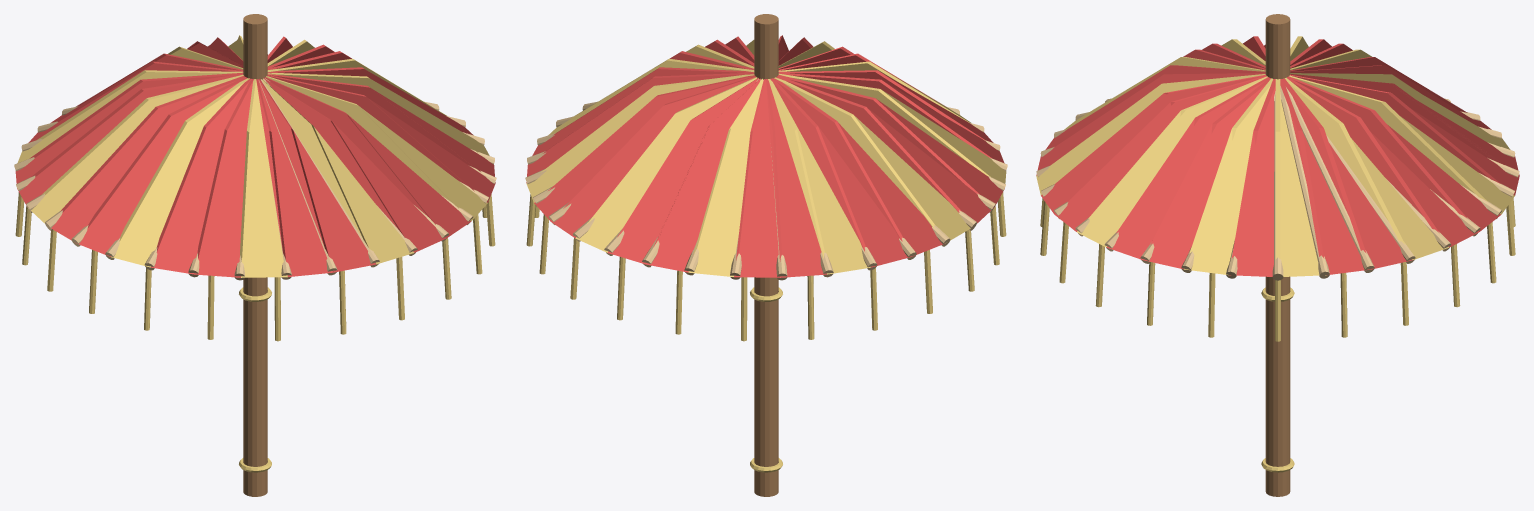
The model's file is buyo_folk_kasa.glb.
3 renders of one model, left to right at view 1: azimuth 30°, elevation 25°; view 2: azimuth 150°, elevation 25°; view 3: azimuth 270°, elevation 25°, orthographic.
Parts seen in each view (by area): view 1: Decorated dance umbrella shaft, Dance umbrella thick washi canopy.020, Dance umbrella thick washi canopy.019, Dance umbrella thick washi canopy.021, Dance umbrella thick washi canopy.018, Dance umbrella thick washi canopy.024, Dance umbrella thick washi canopy.022, Dance umbrella thick washi canopy.017, Dance umbrella thick washi canopy.025, Dance umbrella thick washi canopy.023, Dance umbrella thick washi canopy.026, Dance umbrella thick washi canopy.016 (+12 smaller); view 2: Decorated dance umbrella shaft, Dance umbrella thick washi canopy.009, Dance umbrella thick washi canopy.010, Dance umbrella thick washi canopy.008, Dance umbrella thick washi canopy.013, Dance umbrella thick washi canopy.007, Dance umbrella thick washi canopy.014, Dance umbrella thick washi canopy.011, Dance umbrella thick washi canopy.012, Dance umbrella thick washi canopy.006, Dance umbrella thick washi canopy.015, Dance umbrella thick washi canopy.005 (+12 smaller); view 3: Decorated dance umbrella shaft, Dance umbrella thick washi canopy.030, Dance umbrella thick washi canopy.031, Dance umbrella thick washi canopy.029, Dance umbrella thick washi canopy.028, Dance umbrella thick washi canopy, Dance umbrella thick washi canopy.003, Dance umbrella thick washi canopy.027, Dance umbrella thick washi canopy.004, Dance umbrella thick washi canopy.002, Dance umbrella thick washi canopy.005, Dance umbrella thick washi canopy.026 (+18 smaller).
Part boxes in pixels (<box>): Decorated dance umbrella shaft: <box>243,14,267,496</box>; Dance umbrella thick washi canopy.020: <box>194,79,253,277</box>; Dance umbrella thick washi canopy.019: <box>151,78,251,274</box>; Dance umbrella thick washi canopy.021: <box>240,79,287,277</box>; Dance umbrella thick washi canopy.018: <box>111,78,249,267</box>; Dance umbrella thick washi canopy.024: <box>261,78,414,264</box>; Dance umbrella thick washi canopy.022: <box>256,79,333,276</box>; Dance umbrella thick washi canopy.017: <box>77,77,247,256</box>; Dance umbrella thick washi canopy.025: <box>263,78,446,252</box>; Dance umbrella thick washi canopy.023: <box>259,78,376,272</box>; Dance umbrella thick washi canopy.026: <box>265,77,470,238</box>; Dance umbrella thick washi canopy.016: <box>51,75,245,243</box>; Decorated dance umbrella shaft: <box>754,14,778,496</box>; Dance umbrella thick washi canopy.009: <box>688,78,763,276</box>; Dance umbrella thick washi canopy.010: <box>734,79,780,277</box>; Dance umbrella thick washi canopy.008: <box>645,78,760,272</box>; Dance umbrella thick washi canopy.013: <box>770,78,910,267</box>; Dance umbrella thick washi canopy.007: <box>607,78,758,264</box>; Dance umbrella thick washi canopy.014: <box>772,78,944,256</box>; Dance umbrella thick washi canopy.011: <box>766,79,826,277</box>; Dance umbrella thick washi canopy.012: <box>768,79,870,274</box>; Dance umbrella thick washi canopy.006: <box>575,77,757,252</box>; Dance umbrella thick washi canopy.015: <box>774,77,970,243</box>; Dance umbrella thick washi canopy.005: <box>551,76,755,238</box>; Decorated dance umbrella shaft: <box>1265,14,1290,496</box>; Dance umbrella thick washi canopy.030: <box>1184,78,1272,275</box>; Dance umbrella thick washi canopy.031: <box>1229,79,1275,276</box>; Dance umbrella thick washi canopy.029: <box>1143,77,1270,269</box>; Dance umbrella thick washi canopy.028: <box>1106,77,1268,259</box>; Dance umbrella thick washi canopy: <box>1275,79,1326,276</box>; Dance umbrella thick washi canopy.003: <box>1285,77,1449,259</box>; Dance umbrella thick washi canopy.027: <box>1077,76,1267,247</box>; Dance umbrella thick washi canopy.004: <box>1287,77,1478,247</box>; Dance umbrella thick washi canopy.002: <box>1283,78,1412,269</box>; Dance umbrella thick washi canopy.005: <box>1288,76,1500,231</box>; Dance umbrella thick washi canopy.026: <box>1054,75,1266,231</box>.
Bounding box in the file's own units: 1.81 × 1.95 × 1.81.
